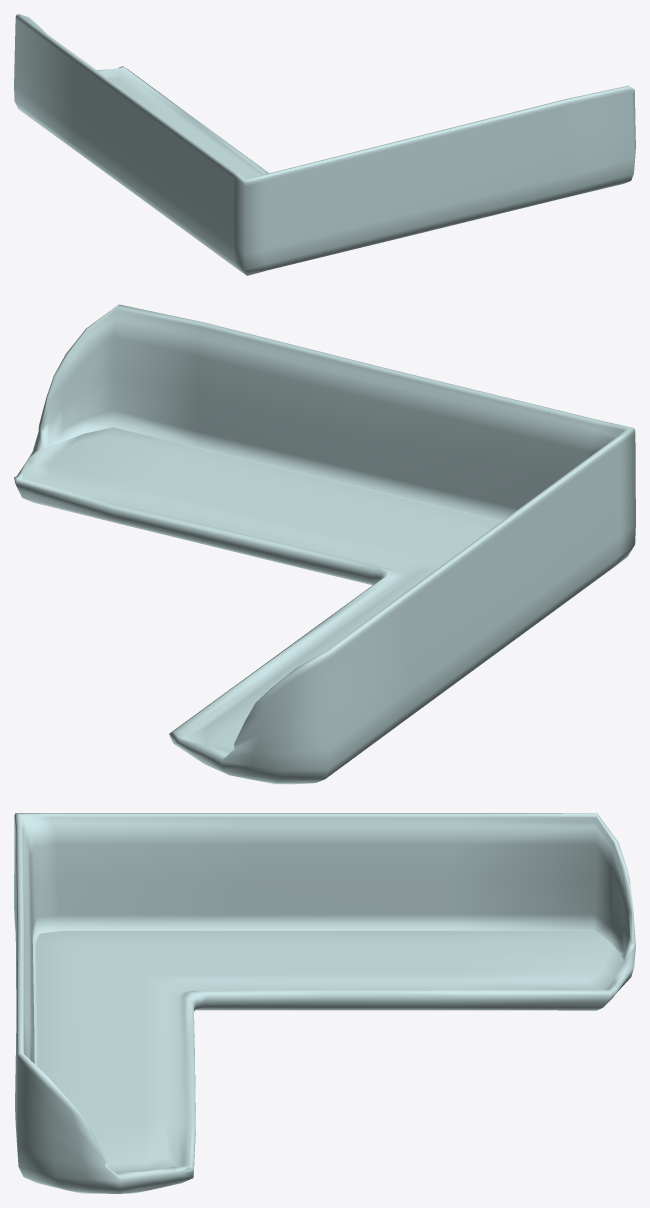
The model's file is couch-right-low.fbx.
3 views of the same model, one above another, from view 1: azimuth 30°, elevation 25°; view 2: azimuth 150°, elevation 25°; view 3: azimuth 270°, elevation 25° (orthographic). The views are drawn at different scales.
Parts seen in each view (by area): view 1: couch 2 LOD1; view 2: couch 2 LOD1; view 3: couch 2 LOD1.
Boxes of the visible parts, bbox=[...] form: couch 2 LOD1: bbox=[14, 14, 635, 275]; couch 2 LOD1: bbox=[14, 304, 635, 784]; couch 2 LOD1: bbox=[14, 813, 635, 1193].
Size of the model in its own units: 331 by 85.37 by 339.
